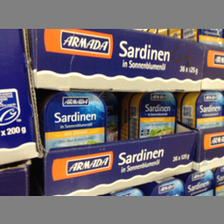fish: (45, 90, 107, 145), (131, 93, 176, 139), (182, 91, 223, 127)
